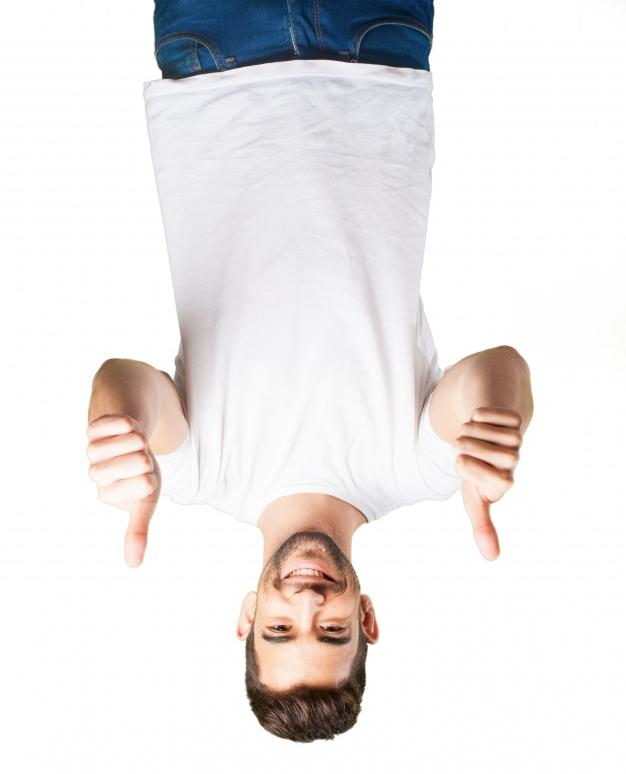thumbsdown: (86, 415, 159, 568), (454, 408, 523, 563)
